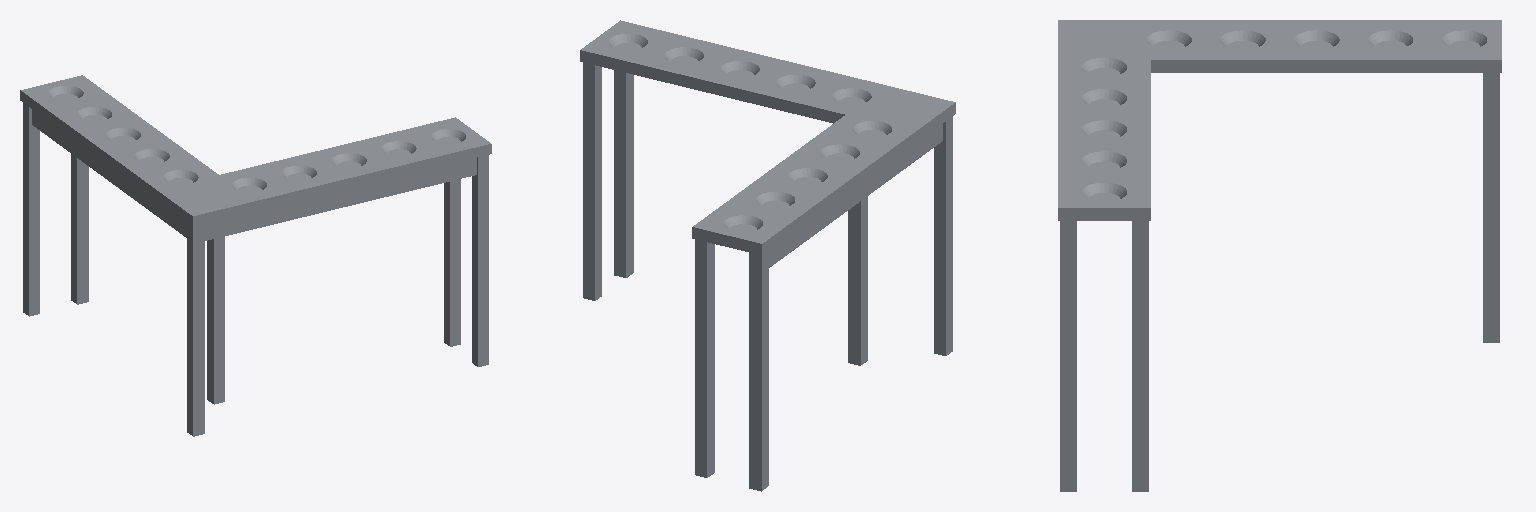
URDF robot description (prepare_table):
<?xml version="1.0"?>
<!--
  prepare_table.urdf
  Prepare table V2, converted from prepare_table_v2.step.
  - visual/collision: meshes/prepare_table.stl (metres, XY-centred, floor z=0)
  - bounding-box size: 1.2 x 1.2 x 0.85 m
  - volume: 0.0288193971 m^3
  - mass/inertia: uniform stainless steel at 7850 kg/m^3
-->
<robot name="prepare_table">

  <material name="prepare_table_stainless">
    <color rgba="0.62 0.64 0.66 1.0"/>
  </material>

  <link name="base_link">
    <inertial>
      <origin xyz="-0.200255281 -0.200255281 0.676644628" rpy="0 0 0"/>
      <mass value="226.232268"/>
      <inertia
          ixx="52.2125676" ixy="19.0986592" ixz="2.27857111"
          iyy="52.2125676" iyz="2.27857111" izz="78.4342135"/>
    </inertial>

    <visual>
      <origin xyz="0 0 0" rpy="0 0 0"/>
      <geometry>
        <mesh filename="meshes/prepare_table.stl" scale="1 1 1"/>
      </geometry>
      <material name="prepare_table_stainless"/>
    </visual>

    <collision>
      <origin xyz="0 0 0" rpy="0 0 0"/>
      <geometry>
        <mesh filename="meshes/prepare_table.stl" scale="1 1 1"/>
      </geometry>
    </collision>
  </link>
</robot>

--- Render facts (derived) ---
The picture shows the robot from 3 angles, left to right: view 1: azimuth 30°, elevation 25°; view 2: azimuth 150°, elevation 25°; view 3: azimuth 270°, elevation 25°; orthographic projection.
Model prepare_table with 1 links and 0 joints (none), rooted at base_link, posed all joints at 0.
Visible links, largest first — view 1: base_link; view 2: base_link; view 3: base_link.
Link boxes in pixels (x1,y1,x2,y2): base_link: (20, 75, 491, 436); base_link: (580, 20, 955, 491); base_link: (1058, 20, 1501, 491).
Size in the robot's own frame: 1.2 by 1.2 by 0.85 metres.
1 mesh visuals loaded from 1 distinct referenced files (1 binary STL).
